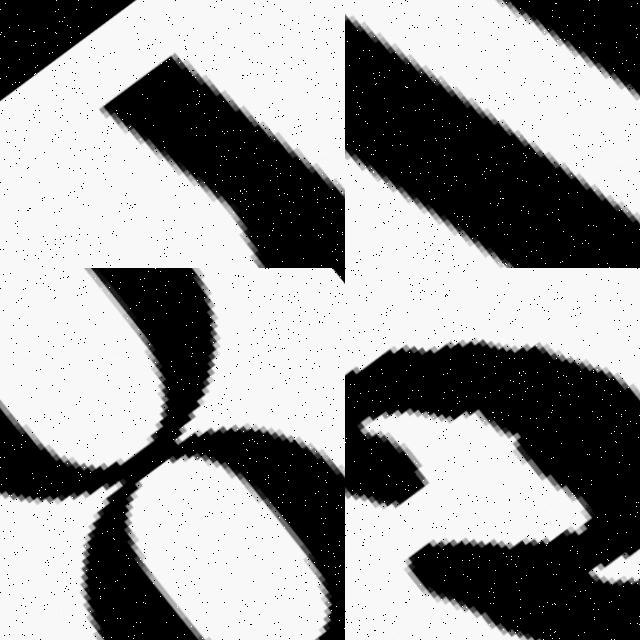5: (345, 268, 640, 640)
8: (0, 268, 345, 640)
N: (345, 0, 640, 268)
Y: (28, 0, 345, 268)
